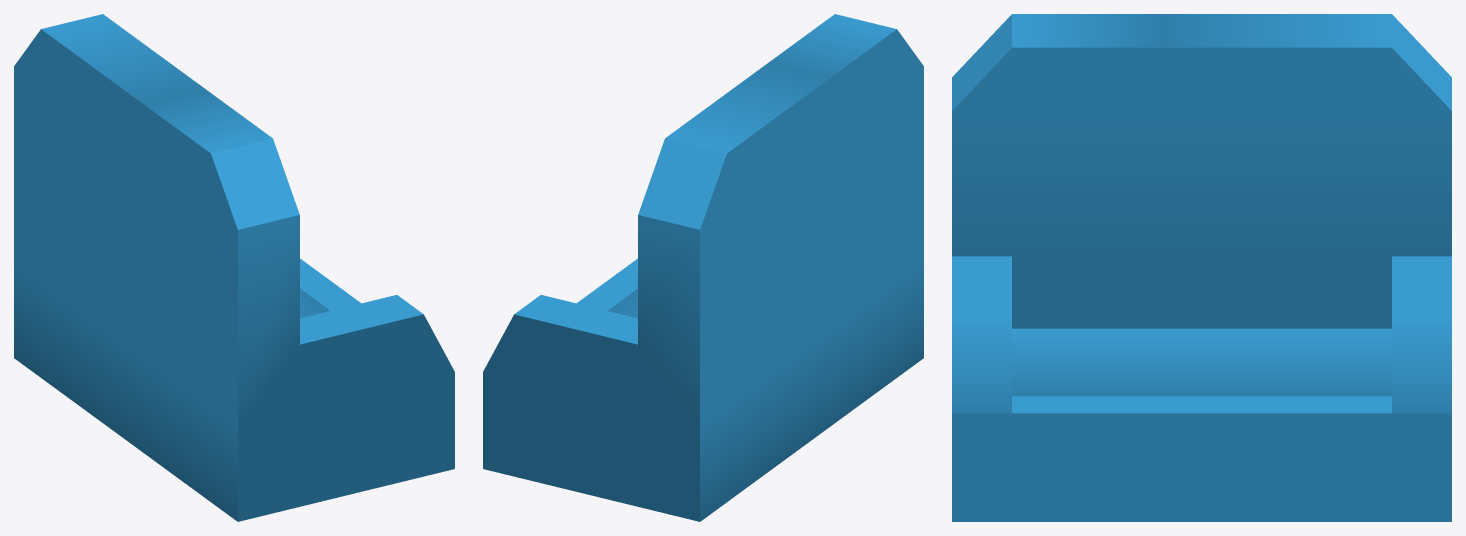
Rendered from hgss-prop-interieur-102.glb.
3 views of the same model, side by side, from view 1: azimuth 30°, elevation 25°; view 2: azimuth 150°, elevation 25°; view 3: azimuth 270°, elevation 25° (orthographic). The views are drawn at different scales.
Visible parts, largest first — view 1: sofa01_r; view 2: sofa01_r; view 3: sofa01_r.
Part boxes in pixels (x1,y1,x2,y2): sofa01_r: (14,14,454,521); sofa01_r: (483,14,923,521); sofa01_r: (952,14,1451,521).
Bounding box in the file's own units: 0.875 × 1.34 × 1.56.
1 material, 1 textured.
